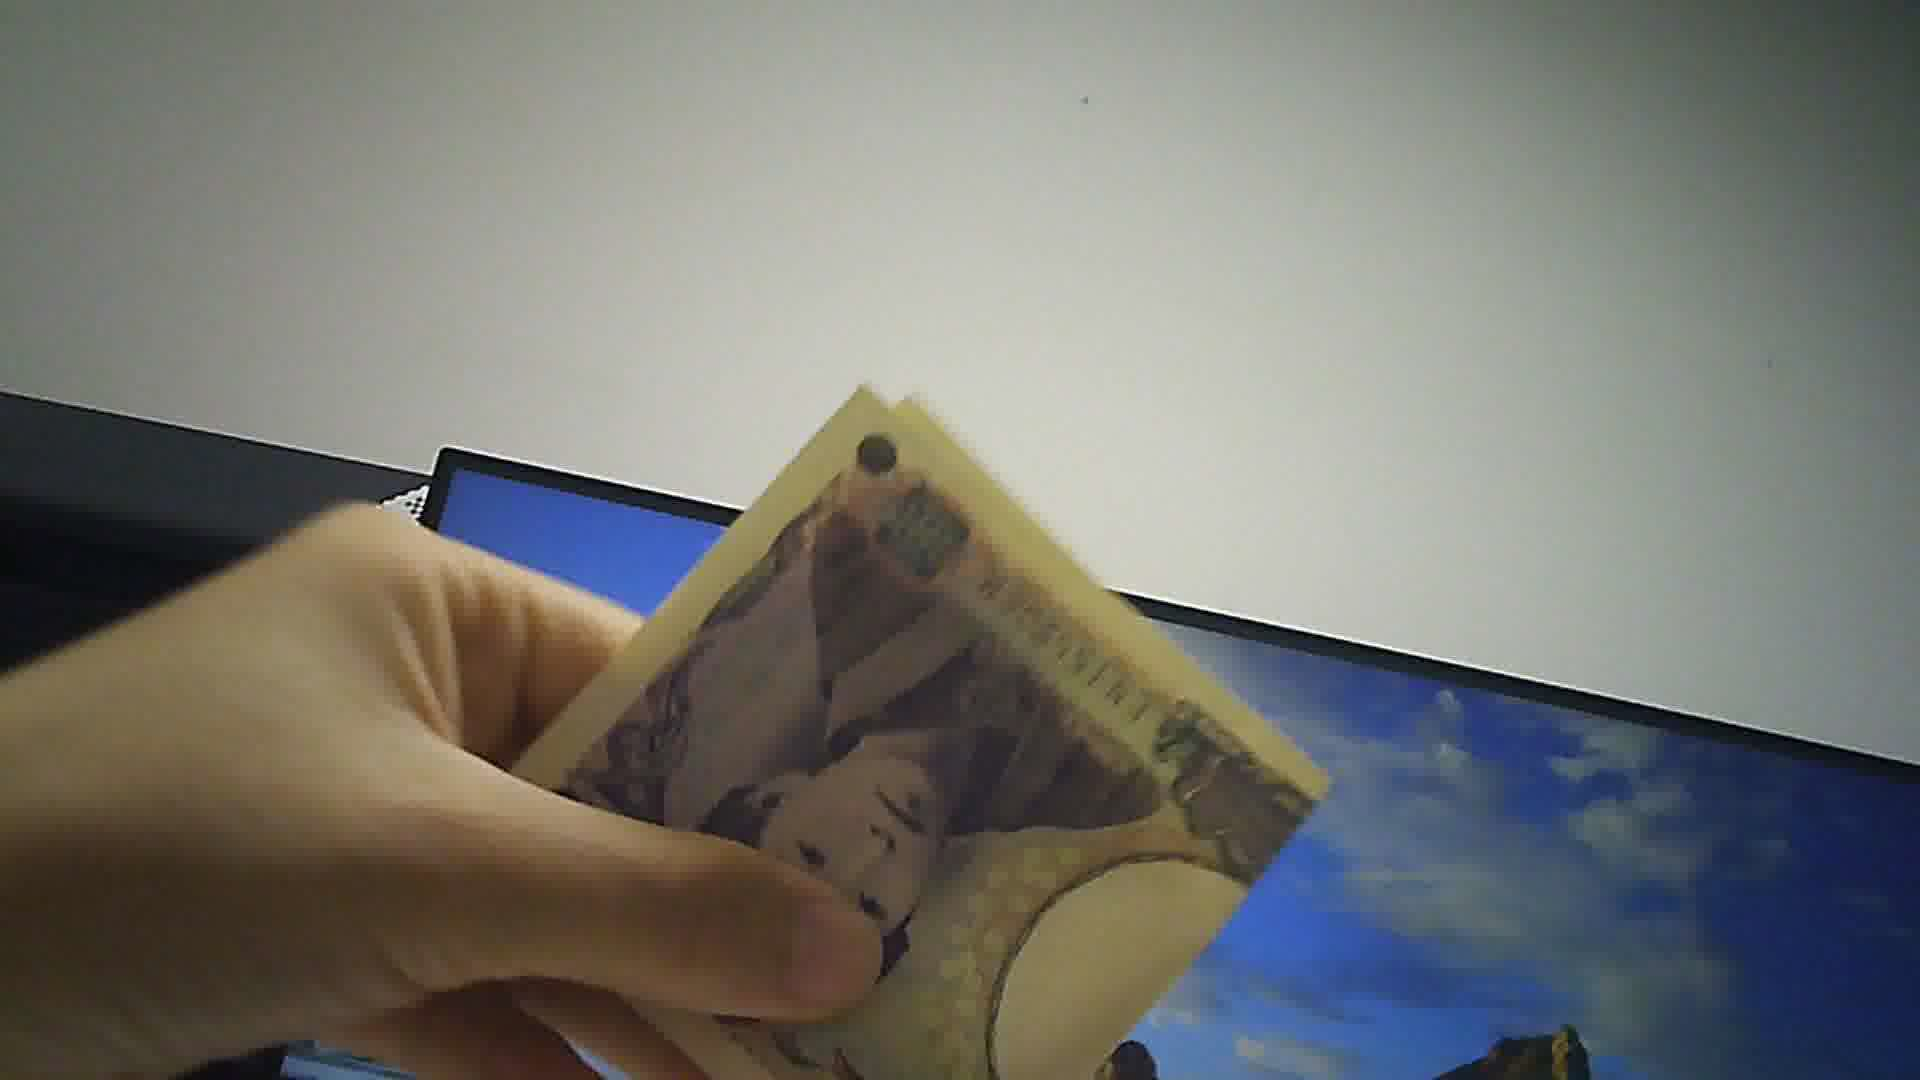5,000 Yen: (468, 386, 1329, 1079)
